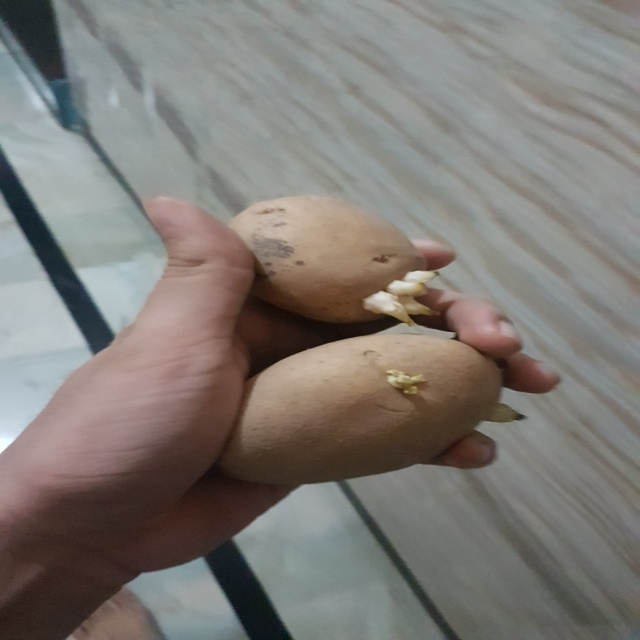potato: (184, 326, 513, 479), (208, 175, 448, 329)
